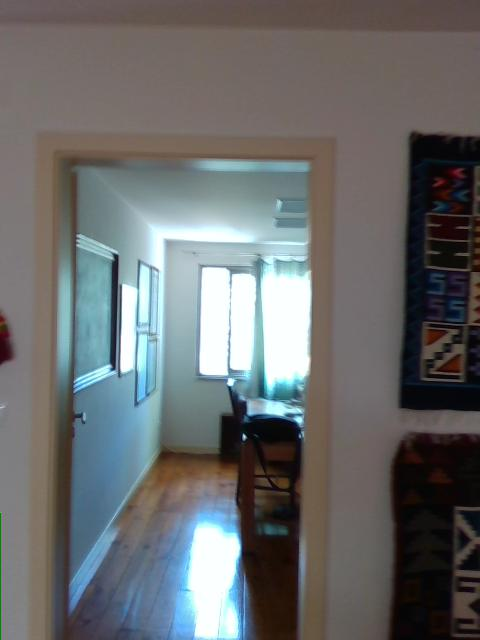open_door: (30, 130, 335, 638)
